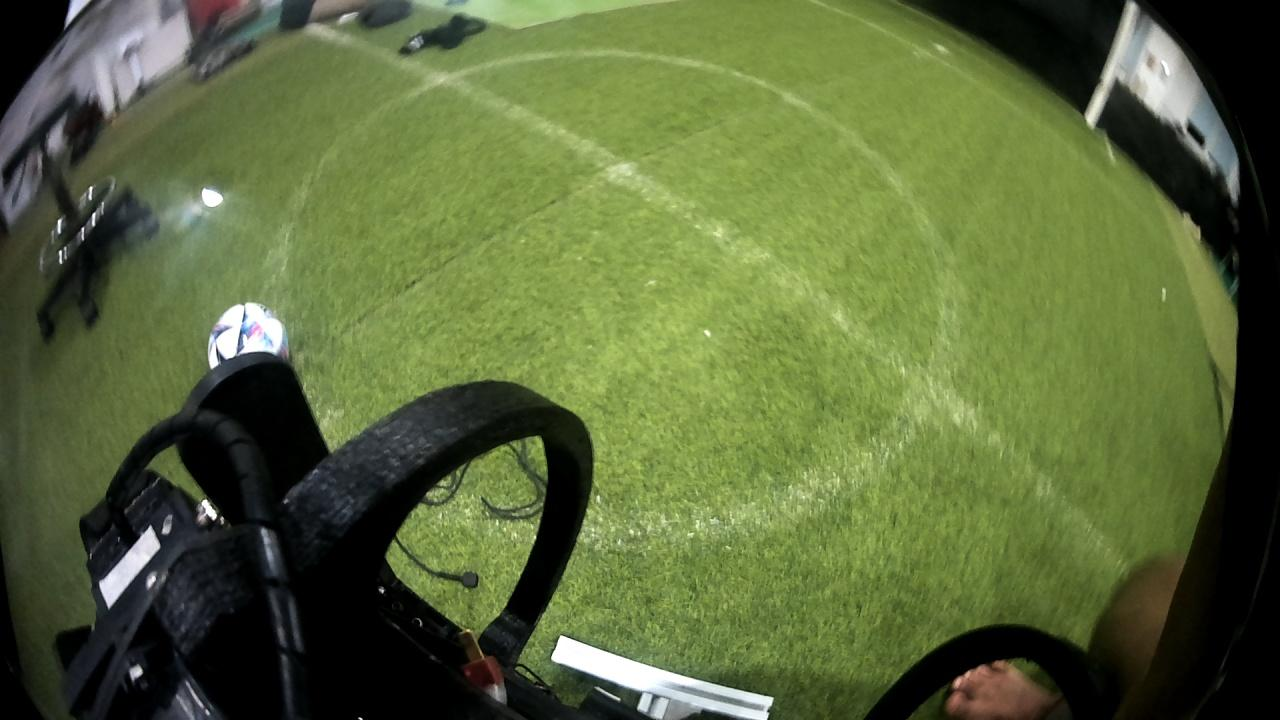ball: (206, 303, 297, 383)
